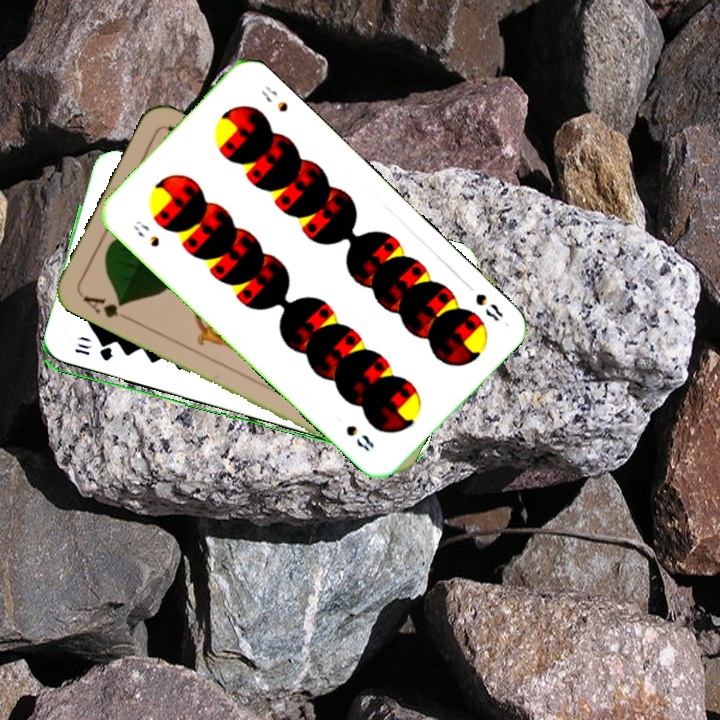G10: (70, 344, 116, 364)
GA: (78, 290, 133, 323)
S8: (471, 289, 506, 324), (129, 216, 162, 250)
